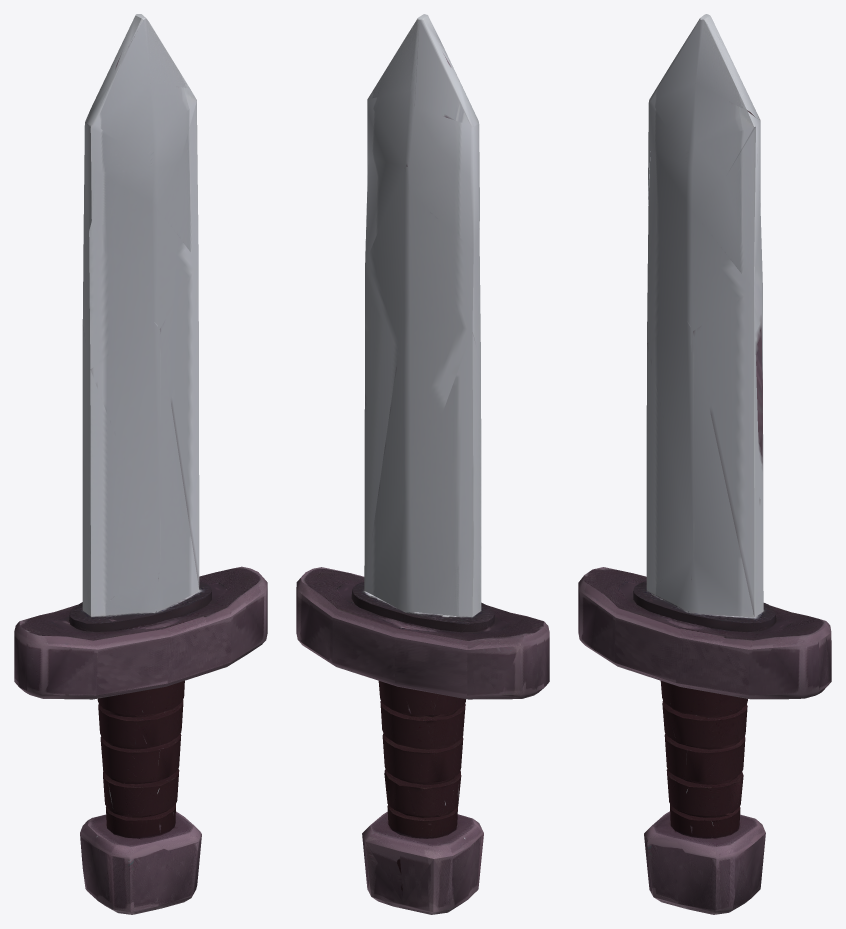
File: FoxSword.fbx
The picture shows the model from 3 angles, left to right: view 1: azimuth 30°, elevation 25°; view 2: azimuth 150°, elevation 25°; view 3: azimuth 330°, elevation 25°; orthographic projection.
Parts seen in each view (by area): view 1: FoxSword; view 2: FoxSword; view 3: FoxSword.
Boxes of the visible parts, x1=… form: FoxSword: x1=14, y1=14, x2=267, y2=914; FoxSword: x1=296, y1=14, x2=549, y2=914; FoxSword: x1=578, y1=14, x2=831, y2=914.
Bounding box in the file's own units: 0.2869 × 0.9913 × 0.1144.
